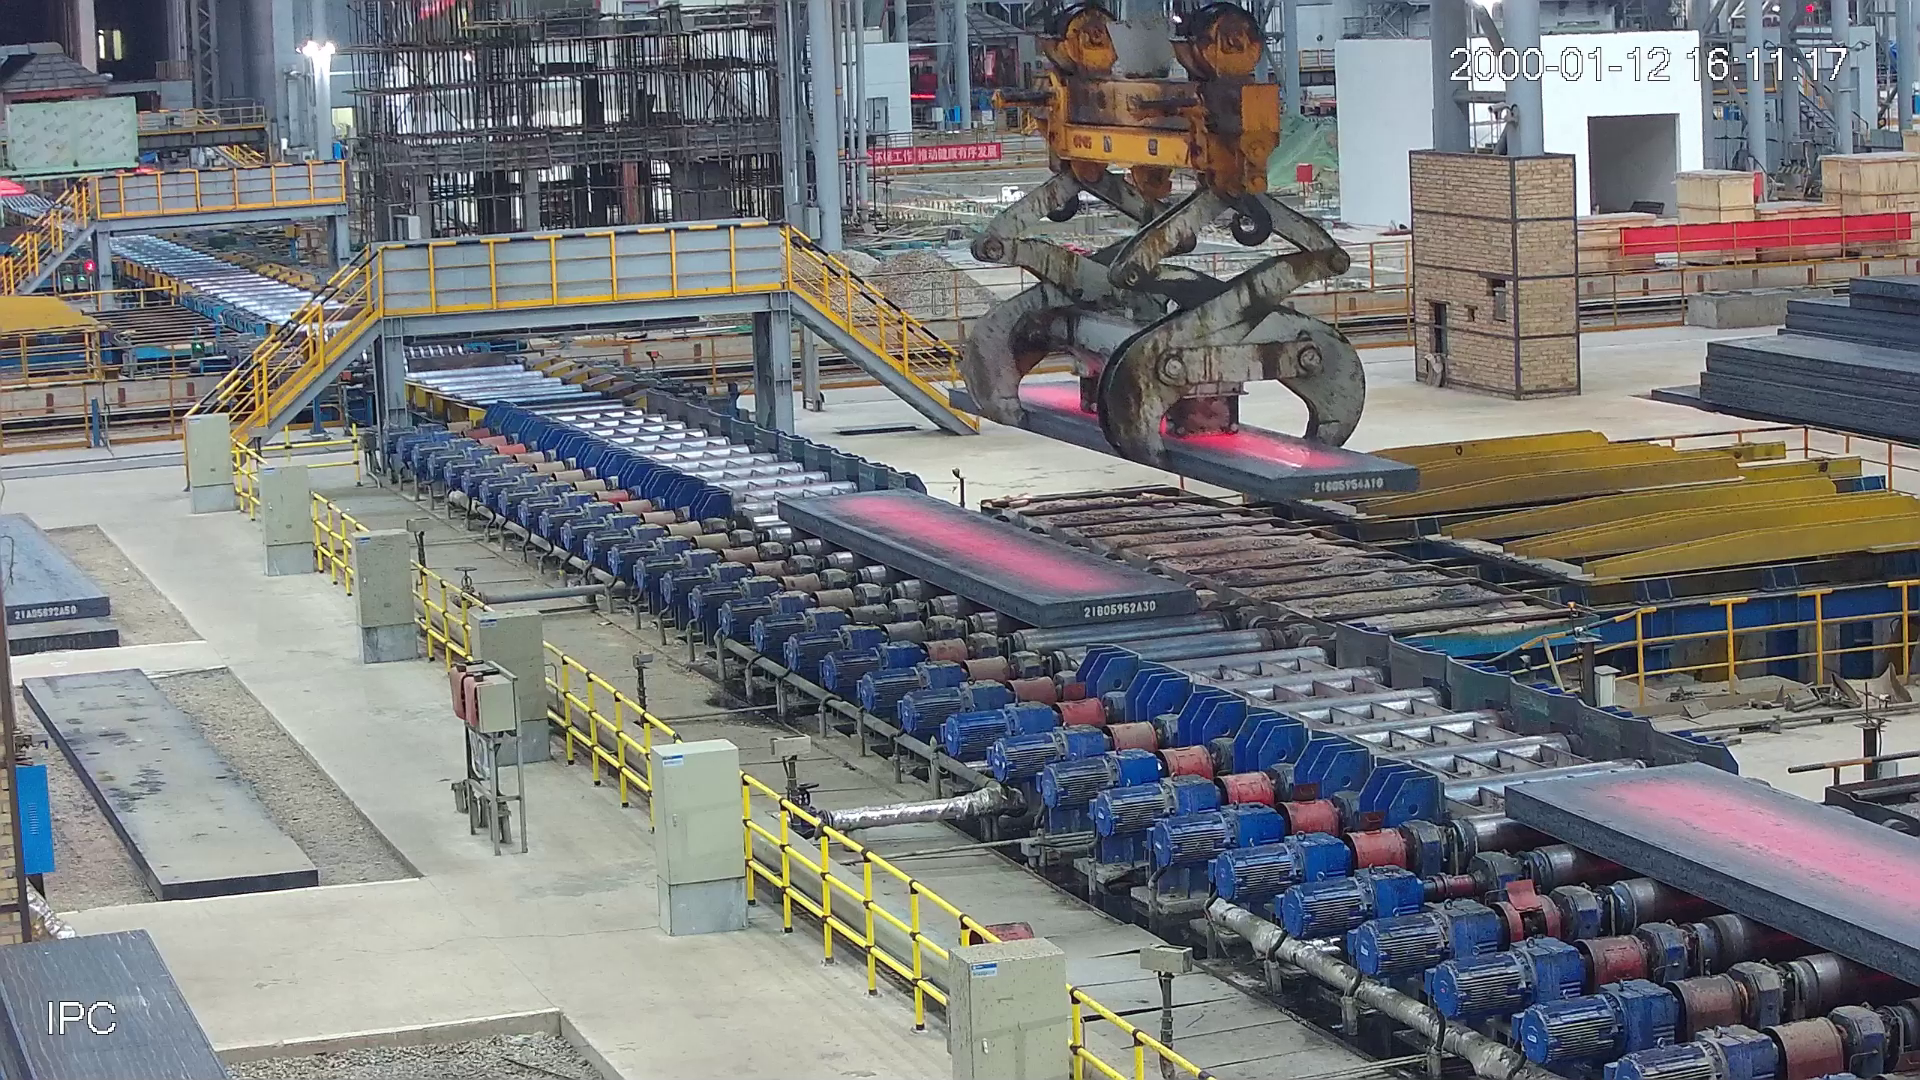craneandslab: (949, 4, 1419, 502)
slab: (1499, 758, 1920, 986), (775, 495, 1197, 624)
